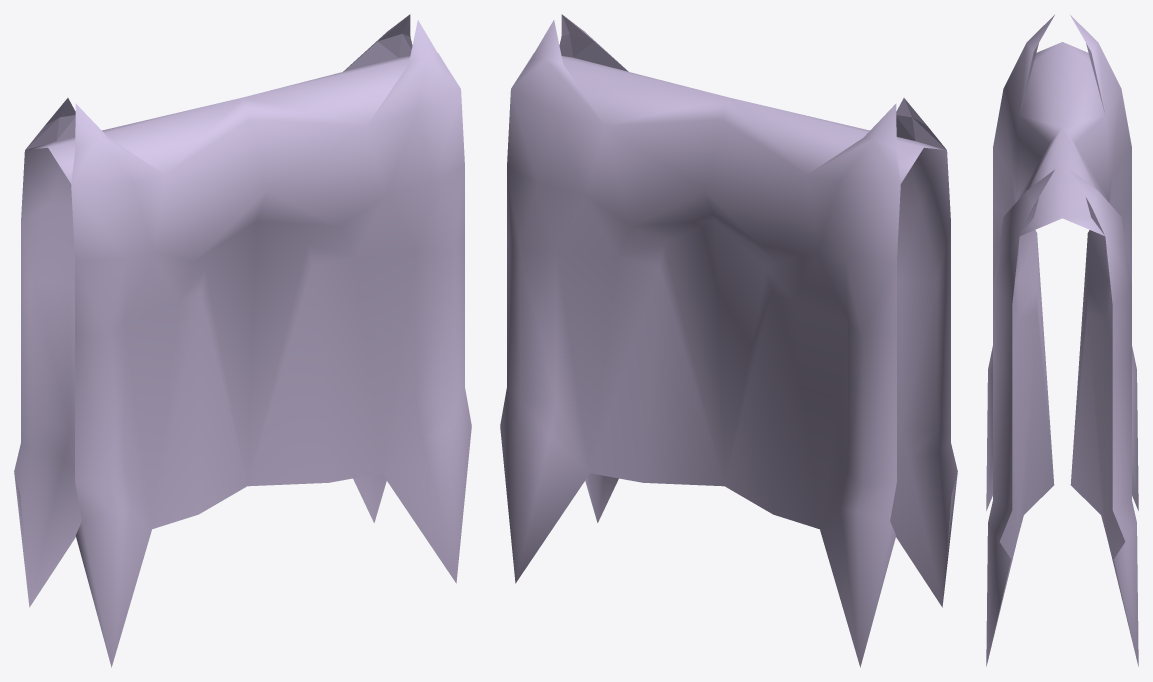
The picture shows the model from 3 angles, left to right: view 1: azimuth 30°, elevation 25°; view 2: azimuth 150°, elevation 25°; view 3: azimuth 270°, elevation 25°; orthographic projection. The views are drawn at different scales.
Parts seen in each view (by area): view 1: Object02; view 2: Object02; view 3: Object02.
Boxes of the visible parts, <box> form: Object02: <box>14,14,471,667</box>; Object02: <box>500,14,957,667</box>; Object02: <box>986,15,1138,666</box>.
Size of the model in its own units: 300 by 395 by 109.
